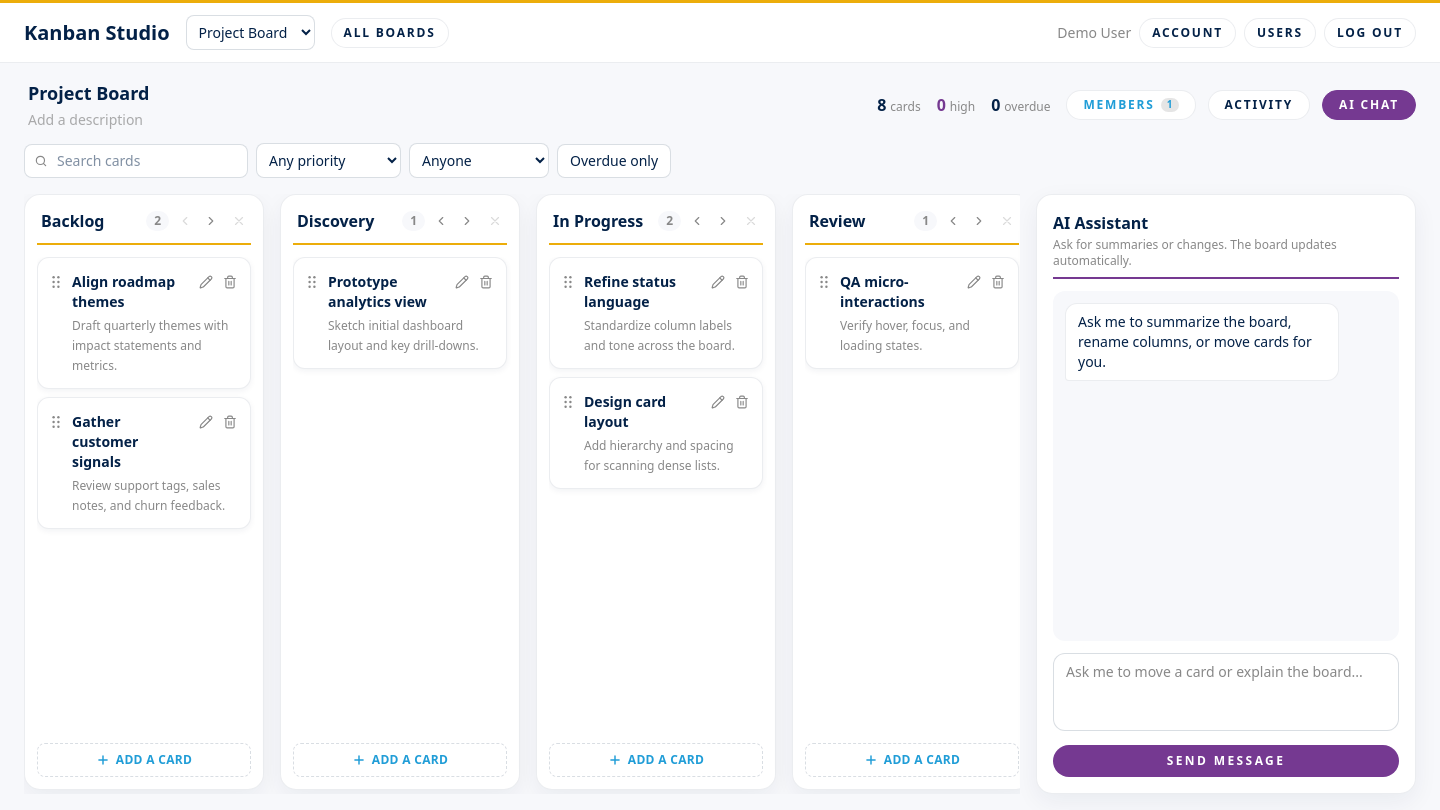
Scenario: Workspace › lists boards with their card counts
What coordinates should you click on to do the following:
click the button "All boards"
I would click on:
 (390, 32)
Its box is [331,18,449,48].
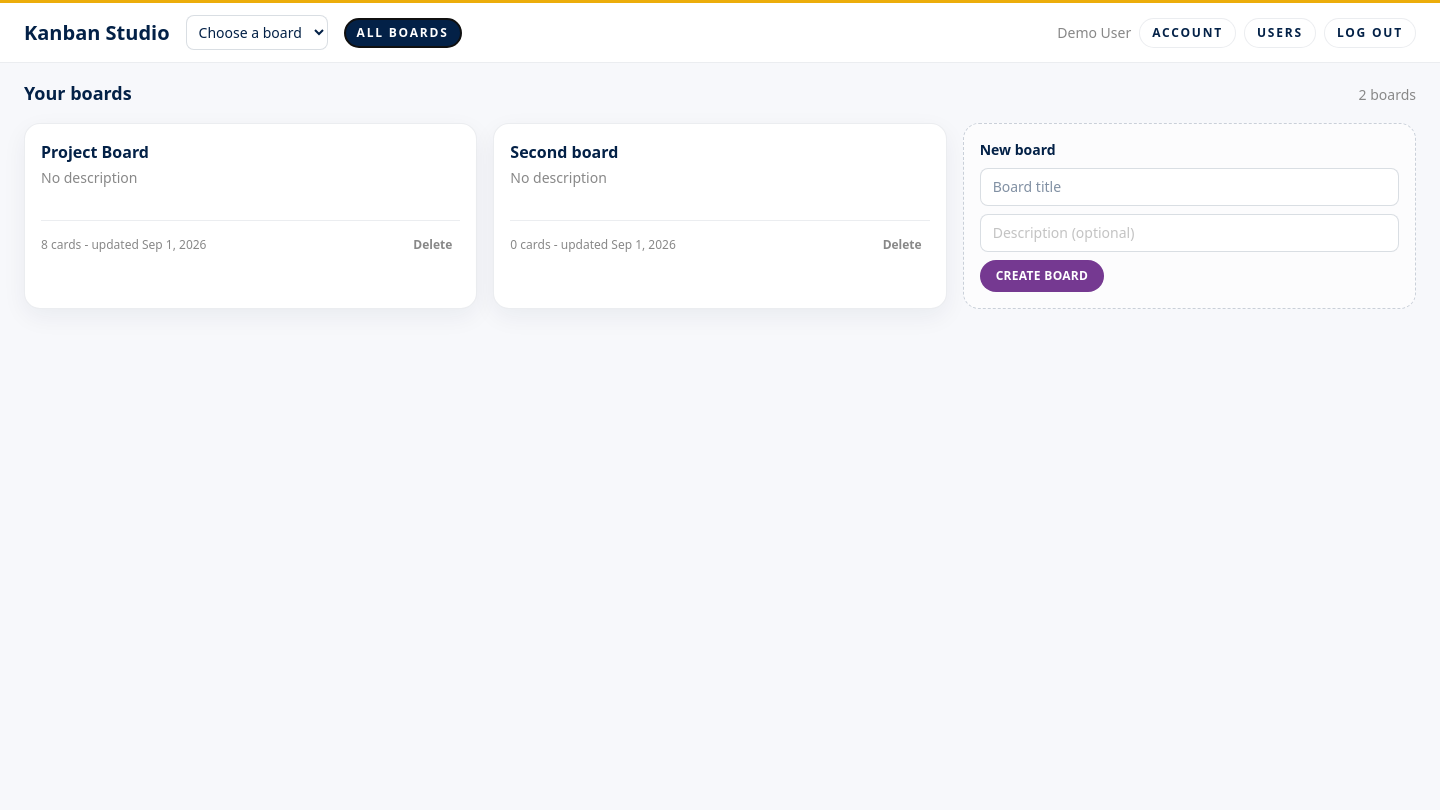
Check: the list item with test id "board-tile-board-1" shows "Project Board", box [41,140,460,164]
Check: the list item with test id "board-tile-board-1" shows "8 cards", box [24,123,477,309]
Check: the list item with test id "board-tile-board-2" shows "0 cards", box [493,123,947,309]
